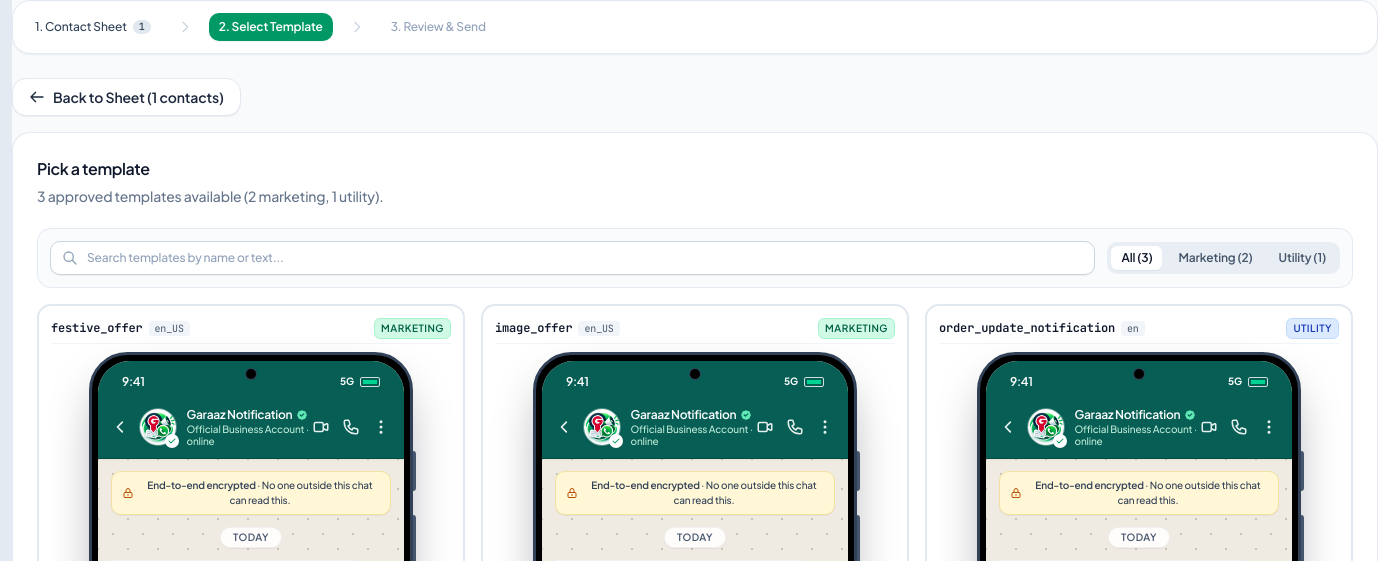
Test case: SendPage unified flow › filters templates in TemplateSelector by search text and category
Expected: the text "order_update_notification" is shown, [939,320,1115,336]
Expected: the text "festive_offer" is shown, [51,320,142,336]
// Type search query
Step 1. Type "order" into the field labelled "Search templates" → (573, 258), box [50,241,1096,275]
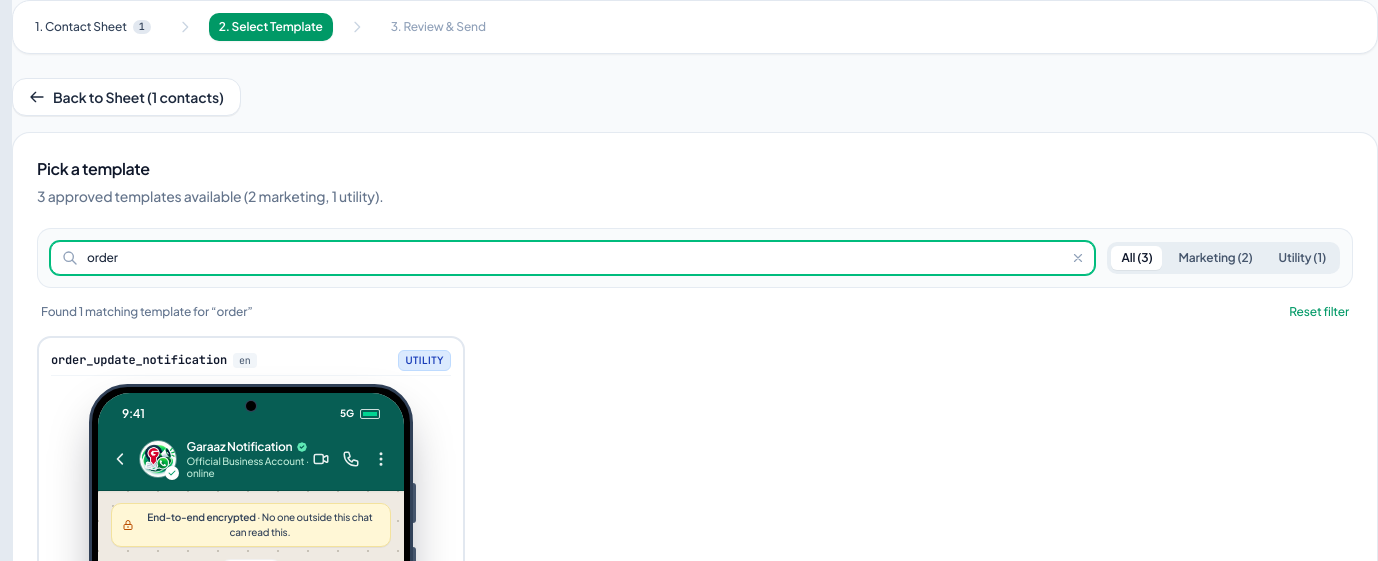
Expected: the text "order_update_notification" is shown, [51,352,227,368]
Expected: the button "festive_offer" is gone
Expected: the button "image_offer" is gone
// Clear search
Step 2. Click the button named "Clear search" → (1078, 258), box [1072,251,1086,265]
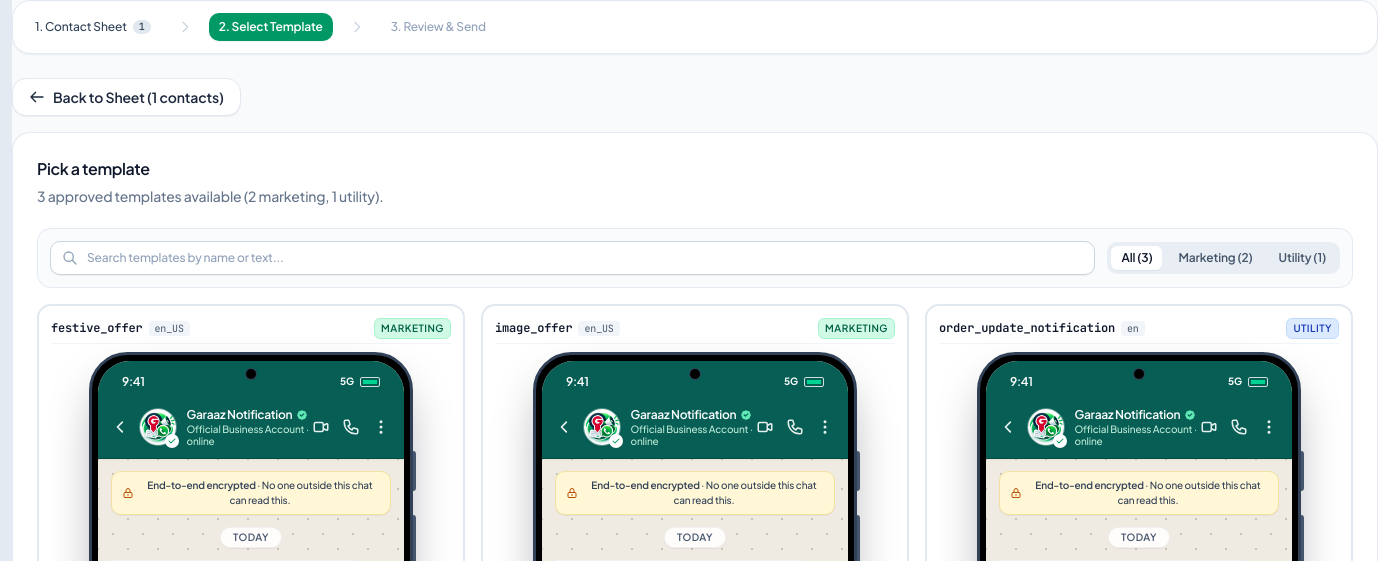
Expected: the text "festive_offer" is shown, [51,320,142,336]
// Switch to Marketing category tab
Step 3. Click the button "Marketing (2)" → (1216, 258), box [1168,246,1263,270]
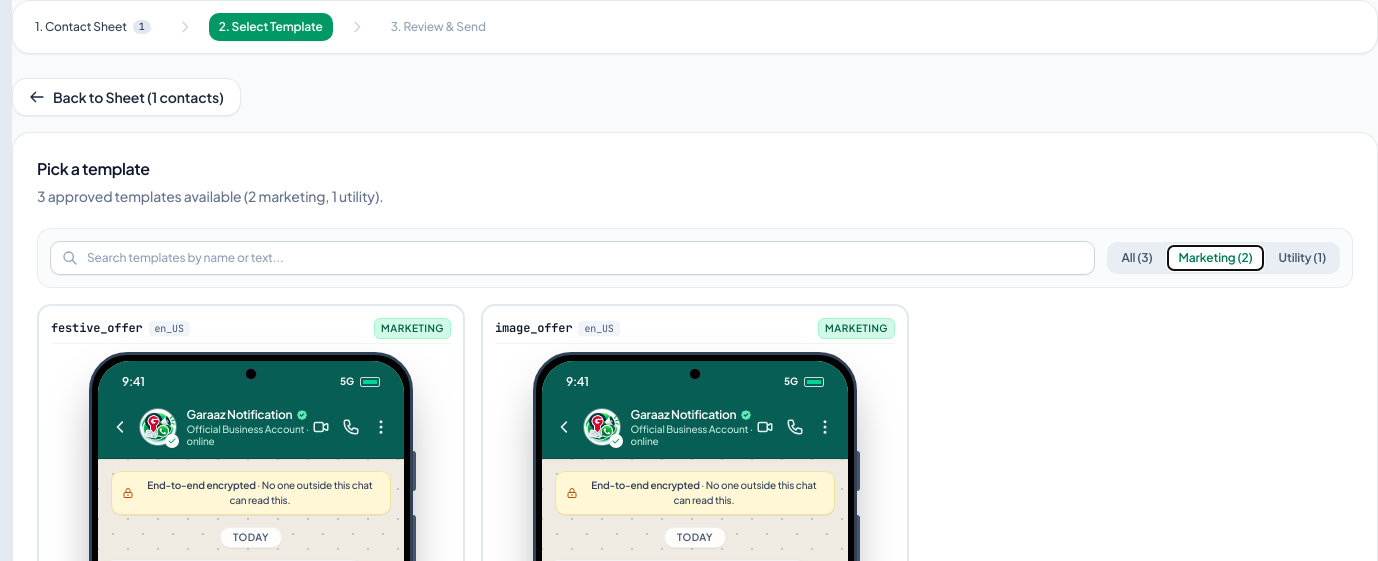
Expected: the text "festive_offer" is shown, [51,320,142,336]
Expected: the button "order_update_notification" is gone
// Switch to Utility category tab
Step 4. Click the button "Utility (1)" → (1302, 258), box [1269,246,1336,270]
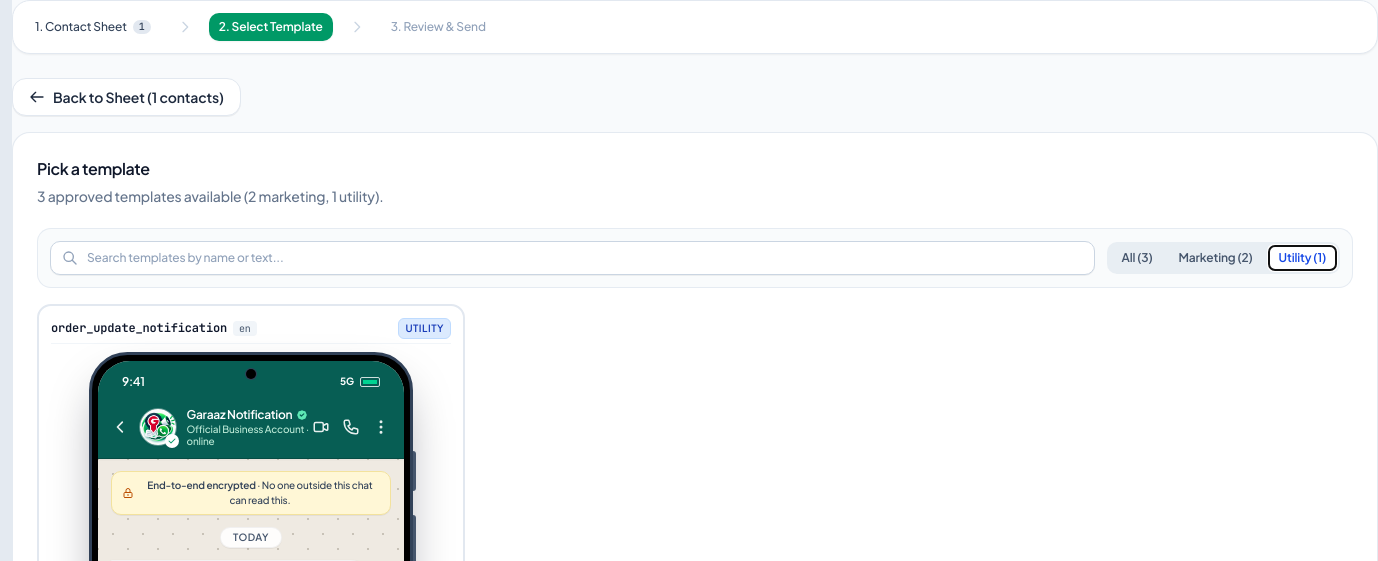
Expected: the text "order_update_notification" is shown, [51,320,227,336]
Expected: the button "festive_offer" is gone
